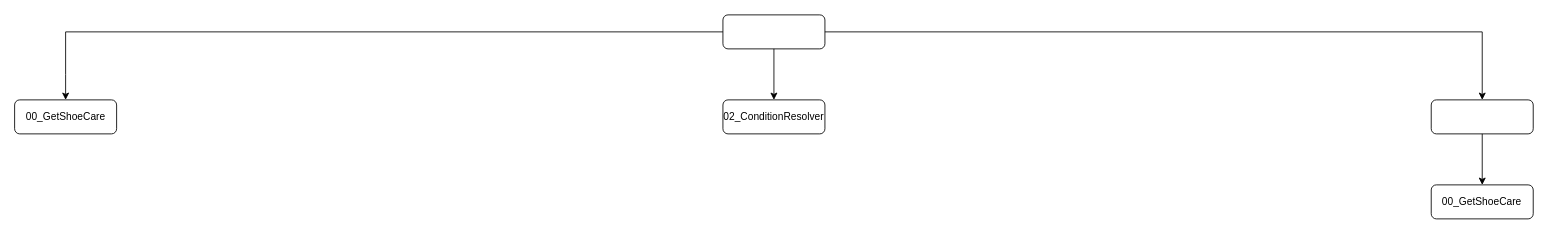
Some shapes in this 1551 by 234 pixel diagram are drawn without their labels. The box of each missing label's shape, as (x1, y1, x2, y2) in pixels:
04_p1_GetComponents: (1430, 99, 1533, 134)
Copy OPT 03_p1_GetFlow: (722, 14, 825, 49)
